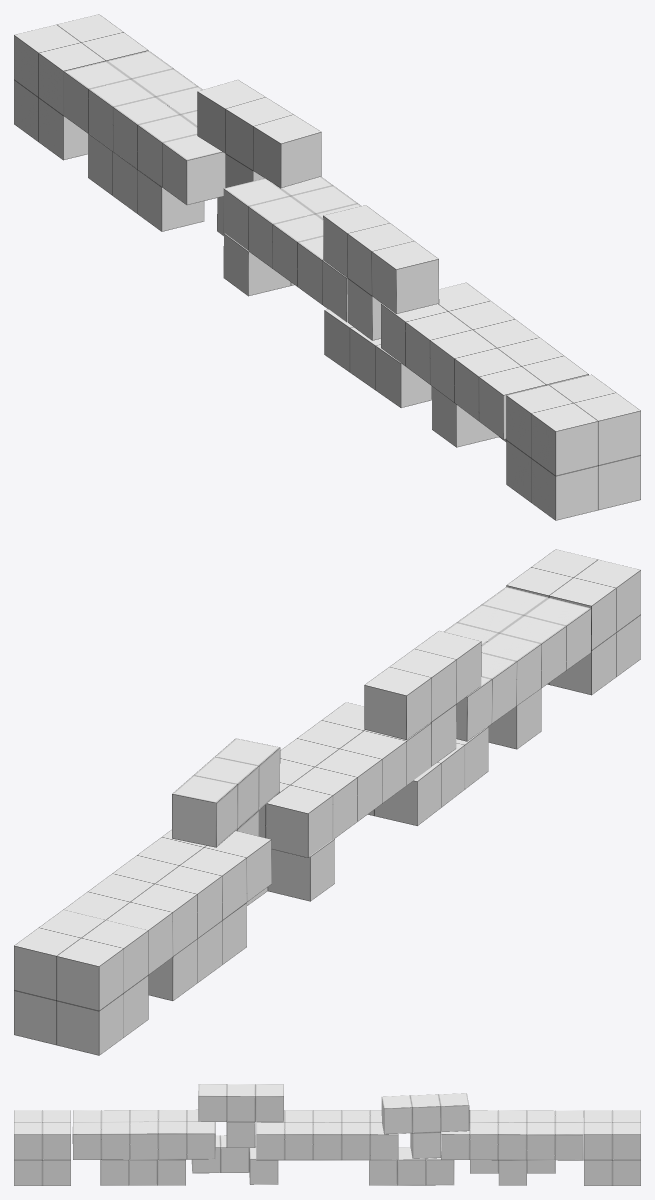
3 renders of one model, top to bottom at view 1: azimuth 30°, elevation 25°; view 2: azimuth 150°, elevation 25°; view 3: azimuth 270°, elevation 25°, orthographic. The views are drawn at different scales.
Parts seen in each view (by area): view 1: Plane/BasicEnvironment/StartCube-1, GridPlank_0, GridPlank_0:1, GridPlank_0:2, GridTShape_0:2, Plane/BasicEnvironment/StartCube-2, GridTShape_0:3, GridLShape_0, GridTShape_0:1, GridLShape_0:1, GridTShape_0; view 2: Plane/BasicEnvironment/StartCube-2, GridPlank_0:2, GridPlank_0:1, GridPlank_0, Plane/BasicEnvironment/StartCube-1, GridTShape_0:2, GridTShape_0:3, GridLShape_0, GridTShape_0:1, GridLShape_0:1, GridTShape_0; view 3: GridPlank_0, GridPlank_0:1, GridPlank_0:2, Plane/BasicEnvironment/StartCube-1, Plane/BasicEnvironment/StartCube-2, GridTShape_0:3, GridTShape_0:2, GridLShape_0:1, GridTShape_0, GridLShape_0, GridTShape_0:1.
Boxes of the visible parts, box(x1,y1,x2,y2) form: Plane/BasicEnvironment/StartCube-1: box(506, 374, 640, 520); GridPlank_0: box(381, 282, 588, 439); GridPlank_0:1: box(64, 51, 225, 204); GridPlank_0:2: box(223, 176, 361, 322); GridTShape_0:2: box(323, 205, 439, 340); Plane/BasicEnvironment/StartCube-2: box(14, 14, 148, 160); GridTShape_0:3: box(197, 80, 321, 187); GridLShape_0: box(324, 309, 431, 407); GridTShape_0:1: box(88, 133, 204, 231); GridLShape_0:1: box(217, 196, 294, 296); GridTShape_0: box(431, 386, 506, 447); Plane/BasicEnvironment/StartCube-2: box(14, 909, 148, 1055); GridPlank_0:2: box(258, 702, 431, 857); GridPlank_0:1: box(64, 829, 271, 974); GridPlank_0: box(444, 587, 591, 741); Plane/BasicEnvironment/StartCube-1: box(506, 549, 640, 695); GridTShape_0:2: box(364, 631, 481, 766); GridTShape_0:3: box(172, 738, 280, 847); GridLShape_0: box(368, 726, 488, 825); GridTShape_0:1: box(148, 902, 246, 1000); GridLShape_0:1: box(247, 839, 334, 905); GridTShape_0: box(488, 688, 541, 749); GridPlank_0: box(72, 1109, 215, 1159); GridPlank_0:1: box(441, 1110, 583, 1160); GridPlank_0:2: box(256, 1110, 398, 1160); Plane/BasicEnvironment/StartCube-1: box(14, 1110, 70, 1185); Plane/BasicEnvironment/StartCube-2: box(584, 1110, 640, 1185); GridTShape_0:3: box(381, 1093, 469, 1158); GridTShape_0:2: box(198, 1084, 283, 1147); GridLShape_0:1: box(369, 1147, 454, 1185); GridTShape_0: box(100, 1159, 185, 1185); GridLShape_0: box(191, 1135, 278, 1184); GridTShape_0:1: box(470, 1160, 555, 1185).
Bounding box in the file's own units: 0.2103 × 0.3021 × 2.2.
